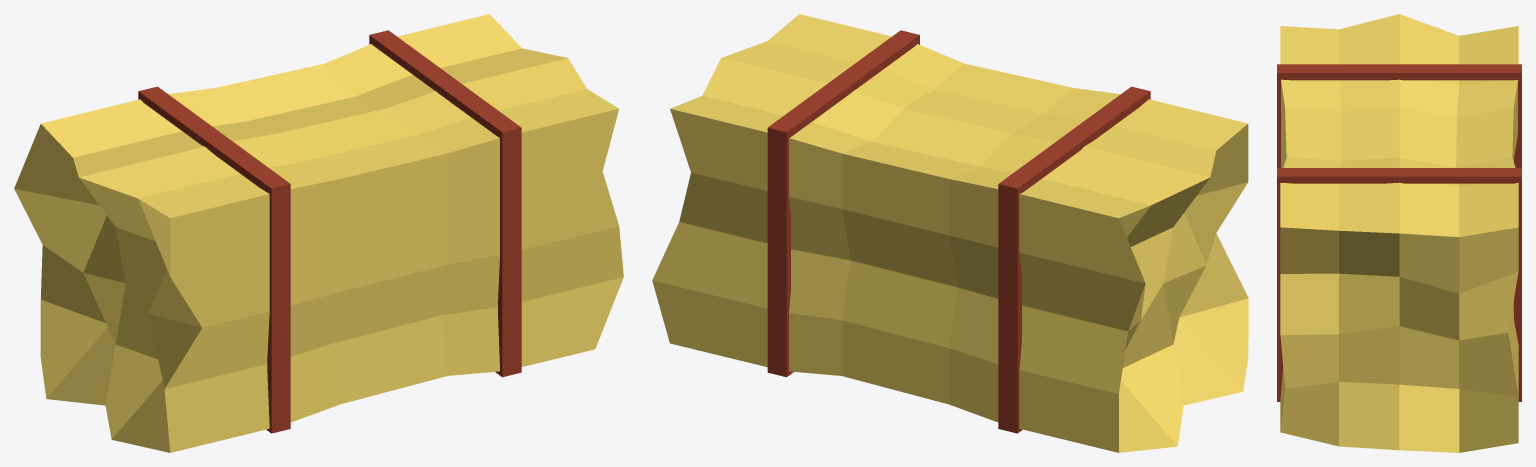
Rendered from straw.fbx.
3 views of the same model, side by side, from view 1: azimuth 30°, elevation 25°; view 2: azimuth 150°, elevation 25°; view 3: azimuth 270°, elevation 25° (orthographic). The views are drawn at different scales.
Parts seen in each view (by area): view 1: straw; view 2: straw; view 3: straw.
Part boxes in pixels (x1,y1,x2,y2): straw: (14, 14, 623, 452); straw: (652, 14, 1248, 452); straw: (1277, 14, 1521, 452).
Size of the model in its own units: 515 by 251 by 241.
